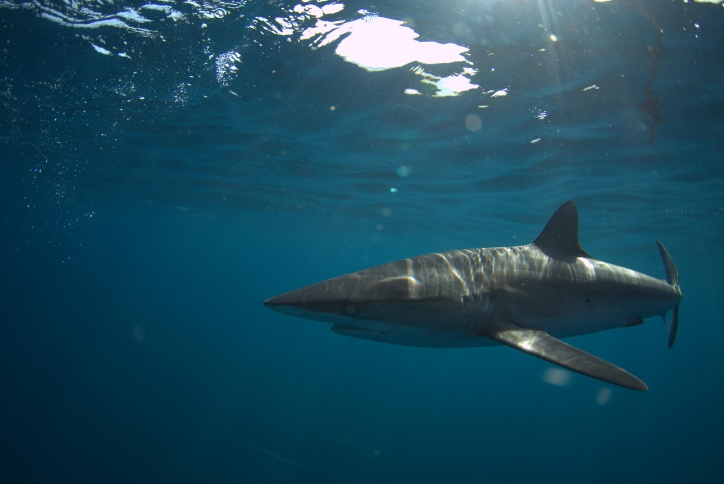Sedoso: (239, 195, 708, 418)
